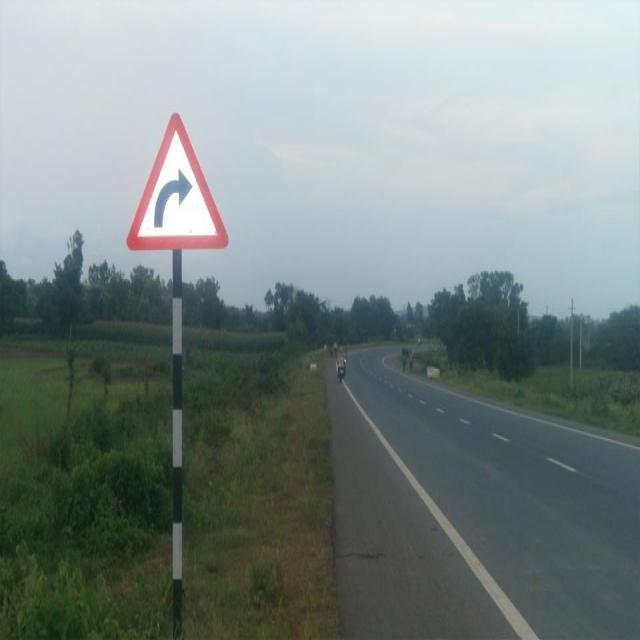right hand curve: (126, 108, 231, 249)
